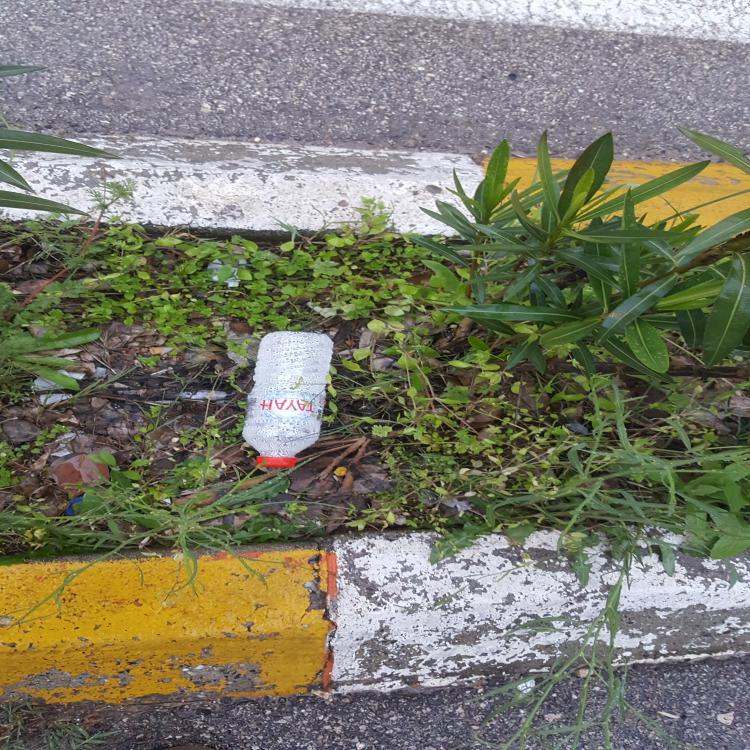Clear plastic bottle: (241, 331, 333, 468)
Other plastic wrapper: (67, 495, 84, 517)
Plastic bottle cap: (255, 458, 297, 468)
Plastic film: (146, 390, 225, 403)
Unlabeled litter: (208, 247, 245, 282), (35, 376, 75, 405), (58, 370, 85, 380), (150, 346, 173, 354)
